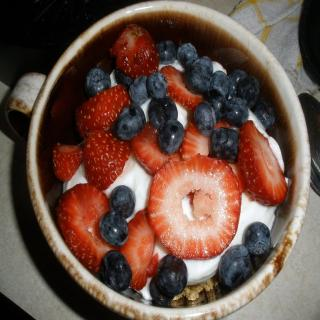Strawberry: (148, 156, 242, 260), (55, 183, 118, 275), (178, 120, 246, 196), (238, 119, 286, 208), (119, 208, 158, 290), (80, 128, 131, 189), (76, 84, 131, 140), (110, 21, 158, 81), (132, 120, 182, 176), (160, 65, 204, 111), (52, 145, 78, 182)
